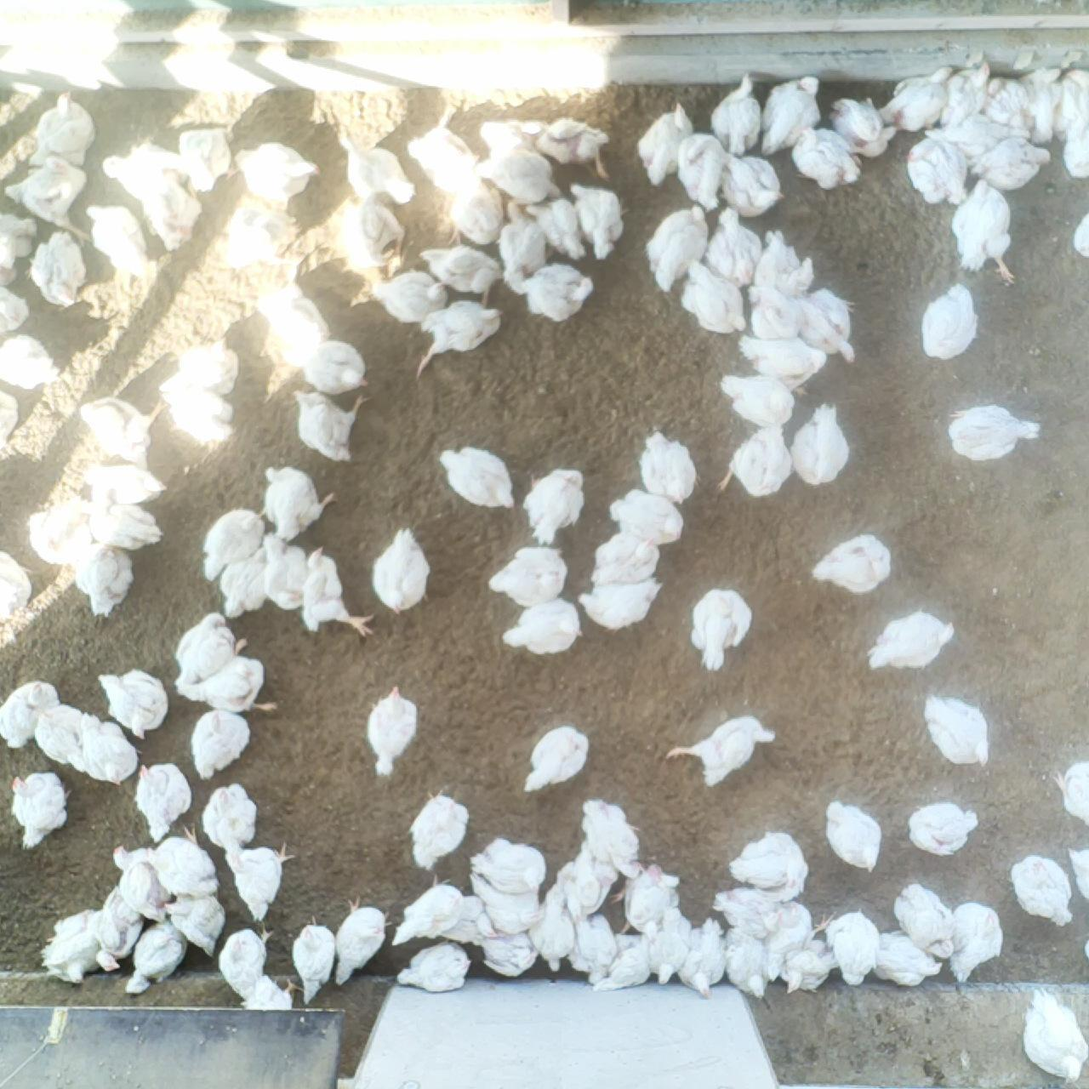chicken: (664, 714, 781, 790), (946, 177, 1021, 286), (74, 389, 172, 470), (3, 153, 91, 242), (408, 300, 507, 379), (298, 544, 376, 641), (1018, 983, 1089, 1089), (252, 277, 335, 363), (227, 140, 325, 211), (79, 200, 155, 289), (215, 531, 289, 622), (335, 125, 418, 205), (754, 900, 832, 984), (259, 461, 338, 542), (287, 385, 368, 464), (175, 607, 248, 694), (203, 205, 302, 269), (493, 197, 556, 296), (783, 287, 861, 366), (872, 63, 958, 134), (222, 842, 298, 922), (135, 165, 205, 251), (725, 829, 808, 901), (23, 88, 95, 171), (716, 424, 794, 500), (730, 333, 827, 394), (142, 825, 223, 898), (689, 585, 756, 673), (369, 524, 432, 617), (947, 402, 1043, 463), (417, 242, 507, 307), (521, 116, 611, 181), (193, 646, 279, 714), (334, 896, 396, 990), (759, 70, 827, 155), (333, 202, 410, 277), (391, 871, 463, 951), (520, 464, 590, 546), (90, 884, 153, 975), (866, 610, 958, 672), (438, 442, 518, 513), (405, 788, 471, 873), (703, 205, 768, 291), (678, 253, 745, 336), (648, 201, 709, 292), (518, 723, 595, 795), (791, 400, 854, 488), (101, 143, 191, 204), (577, 798, 643, 881), (94, 668, 169, 741), (921, 691, 992, 768), (472, 147, 563, 207), (891, 878, 958, 959), (485, 544, 571, 607), (437, 178, 508, 254), (635, 98, 696, 186), (405, 123, 477, 197), (902, 133, 973, 208), (712, 151, 788, 221), (933, 115, 1037, 166), (944, 901, 1007, 985), (73, 537, 137, 619), (125, 910, 186, 996), (364, 681, 418, 778), (513, 262, 596, 325), (499, 601, 589, 659), (793, 127, 869, 195), (41, 907, 107, 985), (468, 835, 551, 897), (231, 971, 305, 1040), (133, 760, 195, 842), (70, 709, 136, 786), (634, 428, 700, 505), (575, 575, 664, 632), (809, 536, 893, 596), (824, 796, 886, 877), (25, 228, 88, 307), (468, 873, 548, 935), (294, 336, 374, 398), (4, 769, 65, 850), (1008, 851, 1073, 927), (566, 178, 626, 260), (199, 510, 269, 580), (823, 907, 882, 990), (188, 711, 255, 784), (608, 486, 688, 547), (161, 338, 241, 399), (527, 881, 581, 971), (867, 927, 945, 989), (753, 226, 815, 304), (166, 387, 238, 454), (718, 371, 801, 429), (555, 847, 618, 923), (905, 798, 983, 859), (520, 193, 591, 260), (673, 131, 731, 213), (827, 93, 899, 159), (619, 862, 684, 935), (287, 915, 339, 1006), (217, 922, 278, 999), (159, 888, 227, 957), (707, 73, 764, 155), (80, 500, 166, 554), (368, 272, 454, 326), (921, 286, 981, 363), (392, 939, 472, 996), (0, 677, 60, 753), (32, 700, 97, 770), (200, 781, 261, 855), (263, 530, 318, 612), (74, 460, 166, 509), (112, 843, 171, 919), (586, 532, 668, 586), (975, 140, 1055, 195), (709, 884, 785, 941), (678, 918, 730, 1001), (29, 503, 94, 569), (775, 933, 841, 997), (175, 125, 236, 193), (642, 906, 693, 987), (719, 926, 775, 999), (740, 282, 807, 343), (0, 327, 64, 390), (477, 117, 543, 175), (1016, 65, 1065, 143), (568, 913, 619, 987), (939, 64, 997, 128), (591, 934, 651, 995), (475, 927, 542, 978), (977, 69, 1029, 133), (0, 537, 30, 626), (1051, 755, 1089, 825), (0, 208, 40, 274), (0, 280, 31, 335), (1063, 843, 1089, 908), (1063, 118, 1089, 181), (0, 385, 21, 462), (1066, 66, 1089, 135), (1072, 206, 1089, 272)
